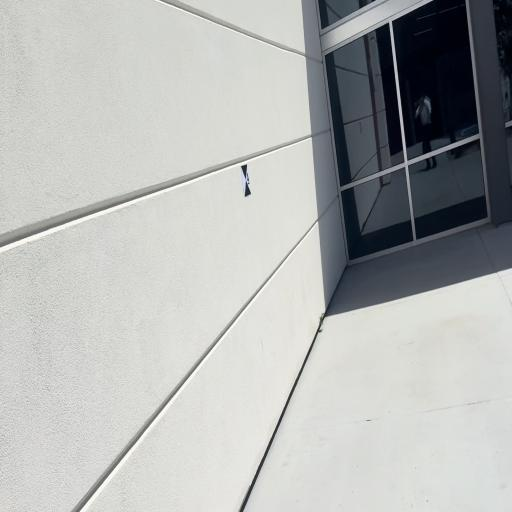target4: (241, 163, 252, 197)
